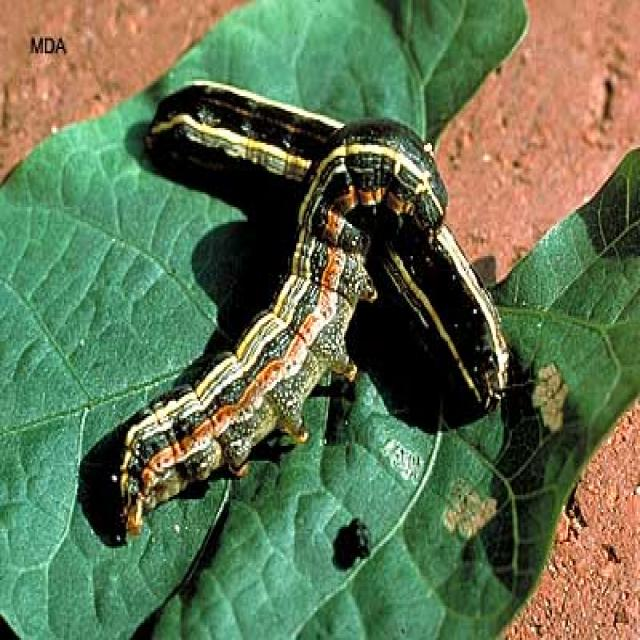worm: (115, 78, 513, 545)
